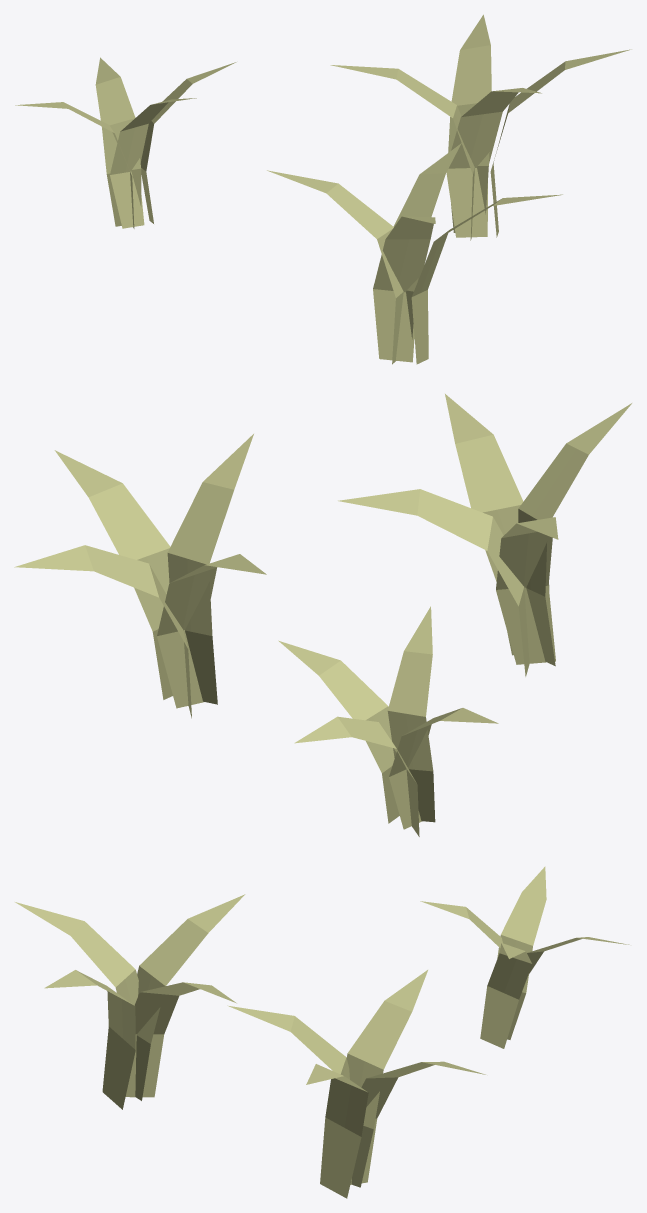
Rendered from ER_Asset_plants01.fbx.
3 renders of one model, top to bottom at view 1: azimuth 30°, elevation 25°; view 2: azimuth 150°, elevation 25°; view 3: azimuth 270°, elevation 25°, orthographic. The views are drawn at different scales.
Parts seen in each view (by area): view 1: polySurface6576; view 2: polySurface6576; view 3: polySurface6576.
Part boxes in pixels (x1,y1,x2,y2): polySurface6576: [15, 14, 631, 364]; polySurface6576: [14, 394, 631, 836]; polySurface6576: [15, 866, 629, 1198].
Size of the model in its own units: 1.72 by 0.6183 by 1.87.
